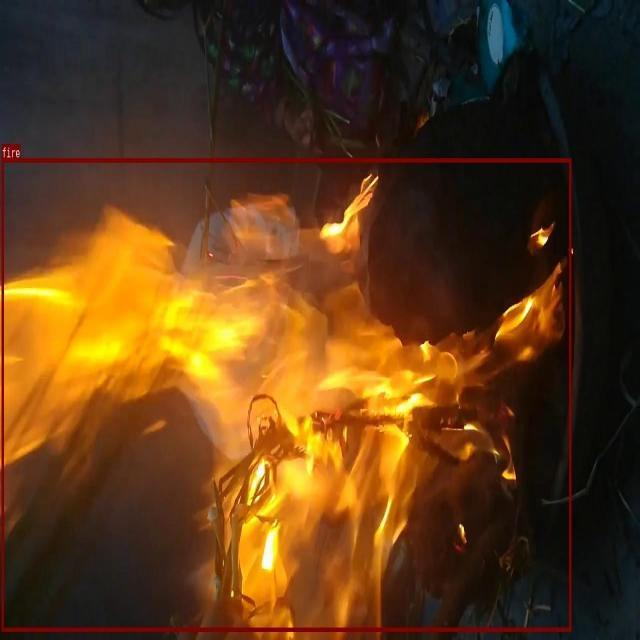fire: (1, 158, 571, 631)
